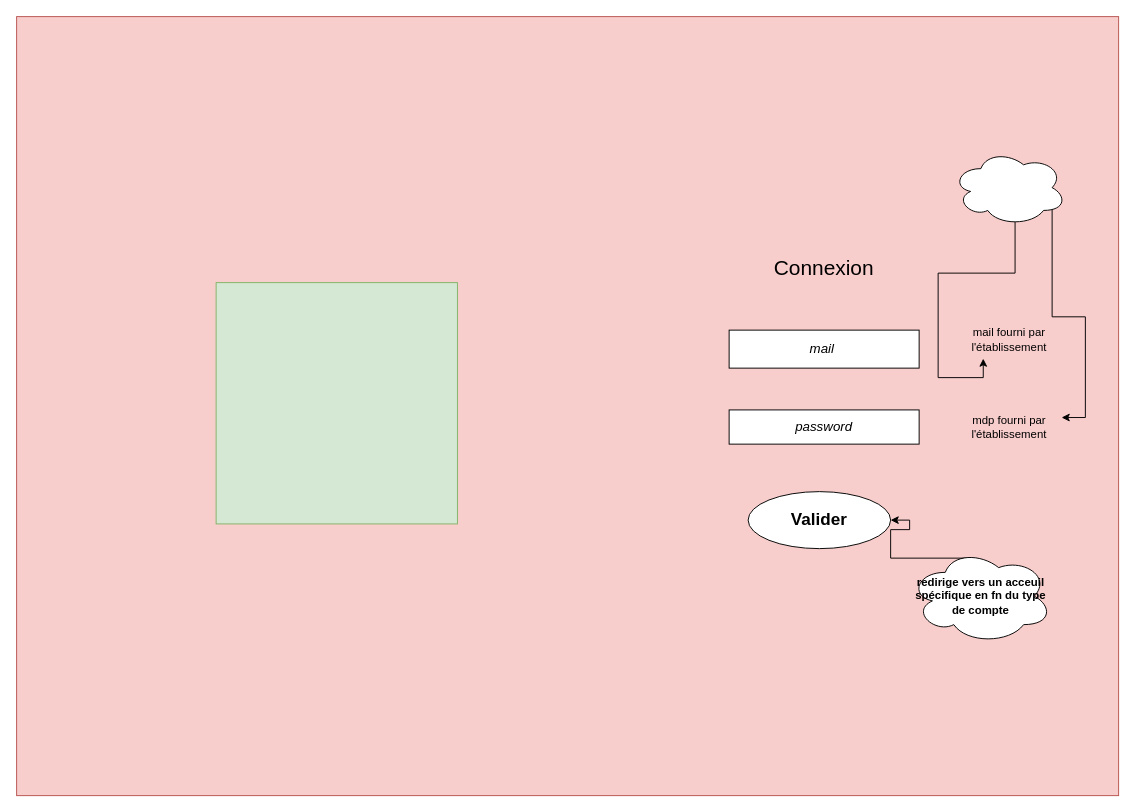
Image size: 1135x812. Some labels were removed from this diagram. Each missing label, with the centre of its shape:
"indications à afficher au passage du curseur" belongs at (x=1008, y=187).
"Logo ECE" belongs at (x=336, y=403).
